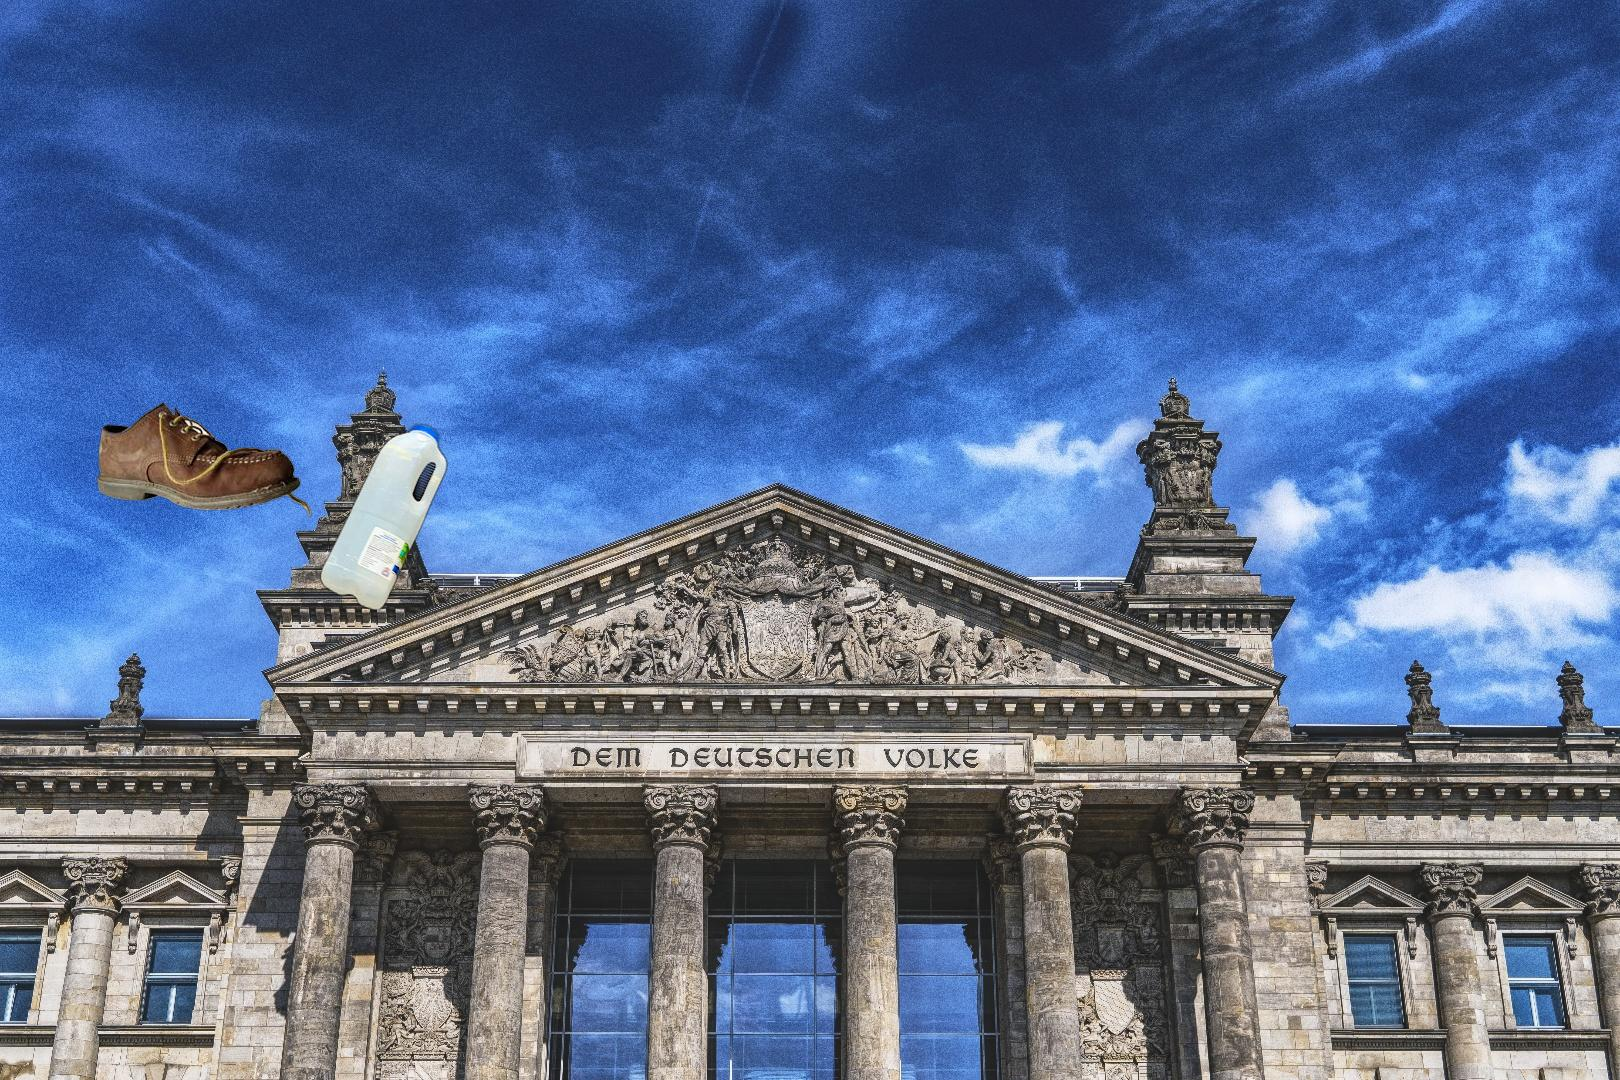plastic-bottles: (127, 250, 452, 617)
shoes: (95, 400, 315, 520)
